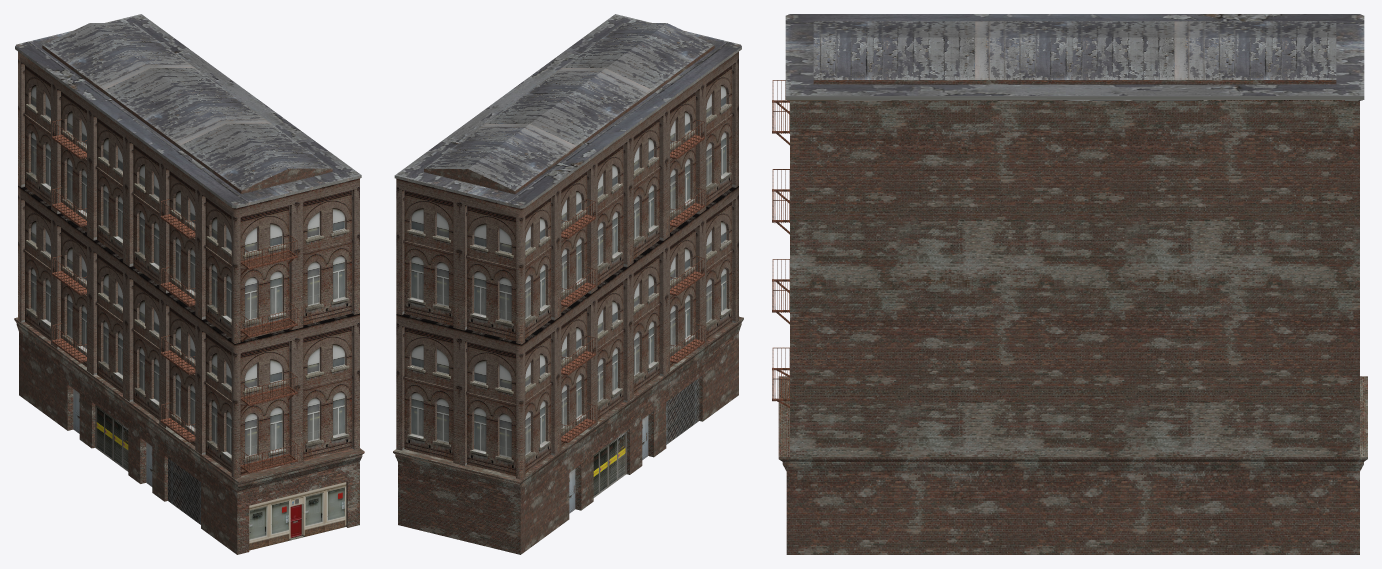
The model's file is Building_A03.obj.
The picture shows the model from 3 angles, left to right: view 1: azimuth 30°, elevation 25°; view 2: azimuth 150°, elevation 25°; view 3: azimuth 270°, elevation 25°; orthographic projection. The views are drawn at different scales.
Parts seen in each view (by area): view 1: K_Building_A03_00; view 2: K_Building_A03_00; view 3: K_Building_A03_00.
Part boxes in pixels (left/top/right/bottom): K_Building_A03_00: left=14, top=14, right=364, bottom=554; K_Building_A03_00: left=393, top=14, right=743, bottom=554; K_Building_A03_00: left=772, top=14, right=1367, bottom=554.
Bounding box in the file's own units: 6.4 × 16.94 × 19.13.
